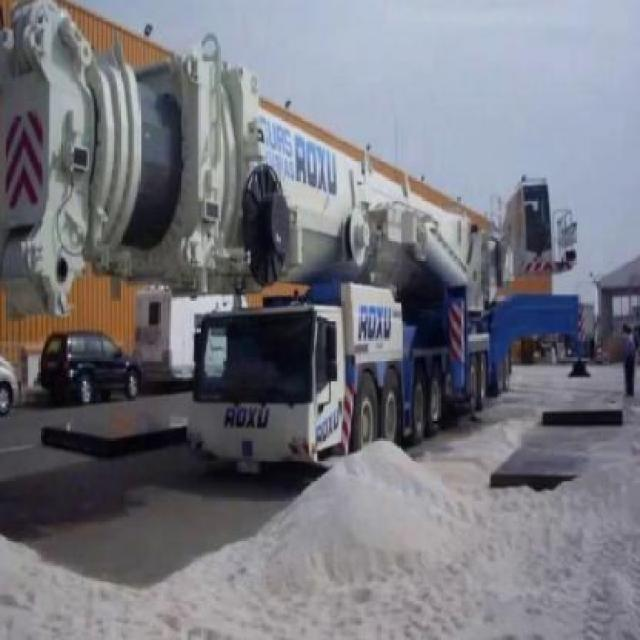Mobile Crane: (0, 0, 589, 474)
